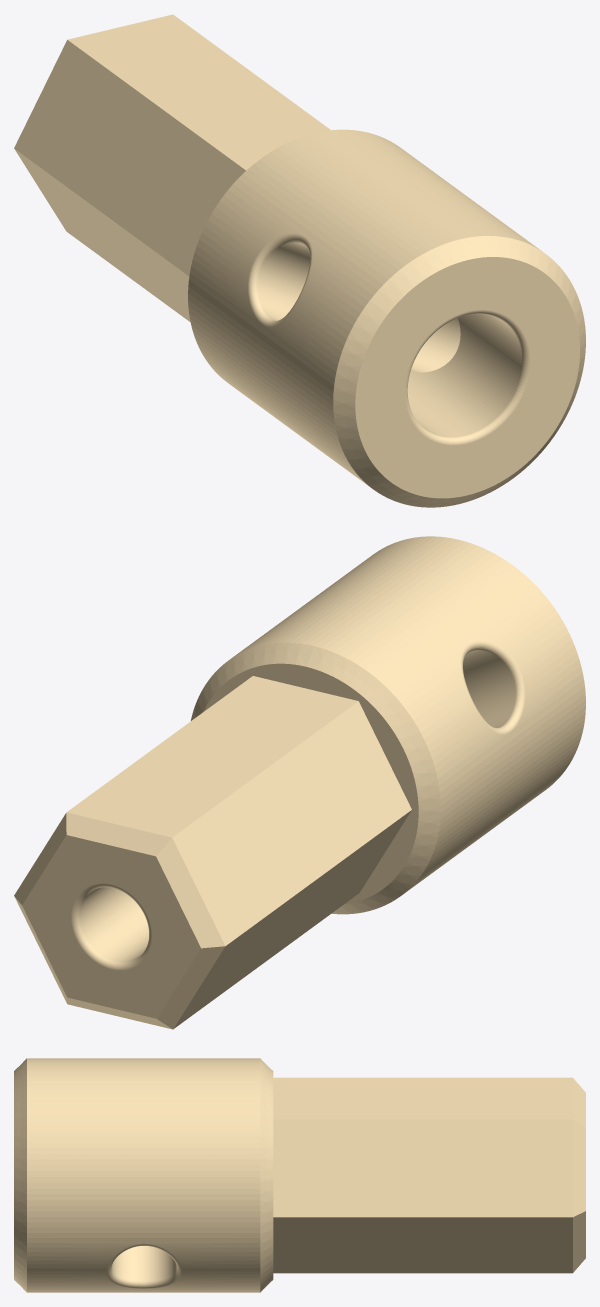
The model's file is copper_motor_shaft.glb.
3 views of the same model, one above another, from view 1: azimuth 30°, elevation 25°; view 2: azimuth 150°, elevation 25°; view 3: azimuth 270°, elevation 25° (orthographic). The views are drawn at different scales.
Parts seen in each view (by area): view 1: Node1; view 2: Node1; view 3: Node1.
Part boxes in pixels (x1=…): Node1: x1=14, y1=14, x2=585, y2=507; Node1: x1=14, y1=536, x2=585, y2=1029; Node1: x1=14, y1=1058, x2=585, y2=1292.
Size of the model in its own units: 9 by 9 by 21.95.
